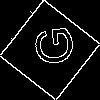G: (25, 25, 75, 69)
